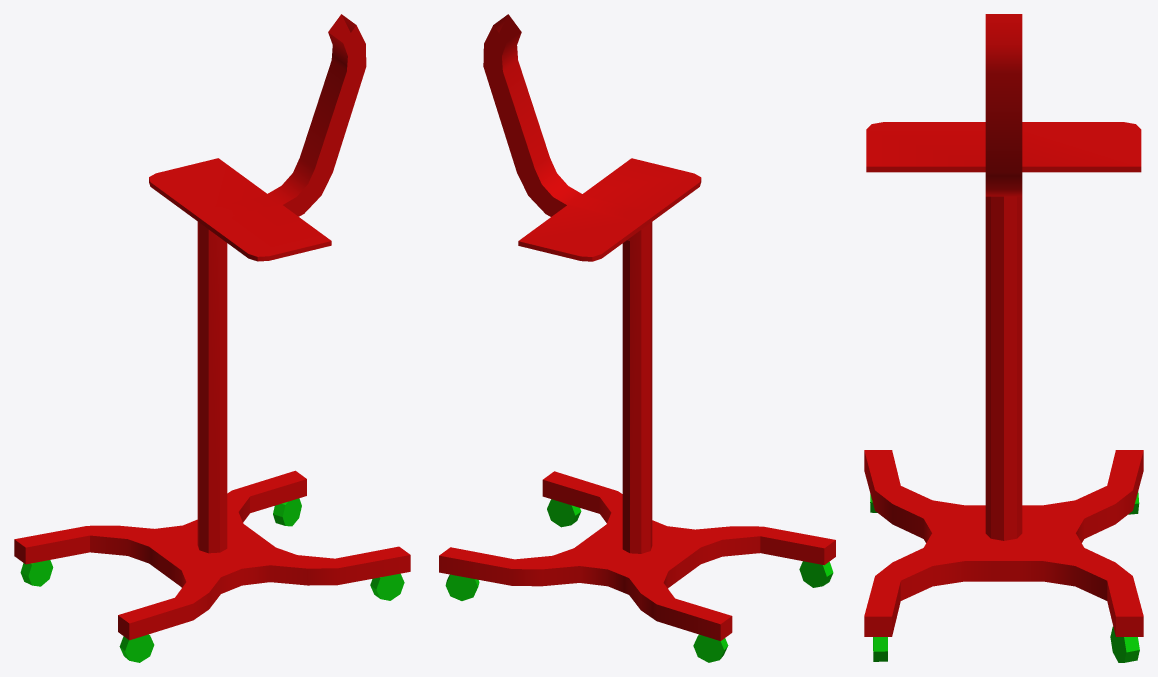
File: Server Computer Support.fbx
The picture shows the model from 3 angles, left to right: view 1: azimuth 30°, elevation 25°; view 2: azimuth 150°, elevation 25°; view 3: azimuth 270°, elevation 25°; orthographic projection. The views are drawn at different scales.
Parts seen in each view (by area): view 1: Cylinder.009; view 2: Cylinder.009; view 3: Cylinder.009.
Boxes of the visible parts, x1,y1,x2,y2 form: Cylinder.009: (14, 14, 410, 662); Cylinder.009: (439, 14, 835, 662); Cylinder.009: (864, 14, 1143, 662).
Bounding box in the file's own units: 52.72 × 94.33 × 36.53.
